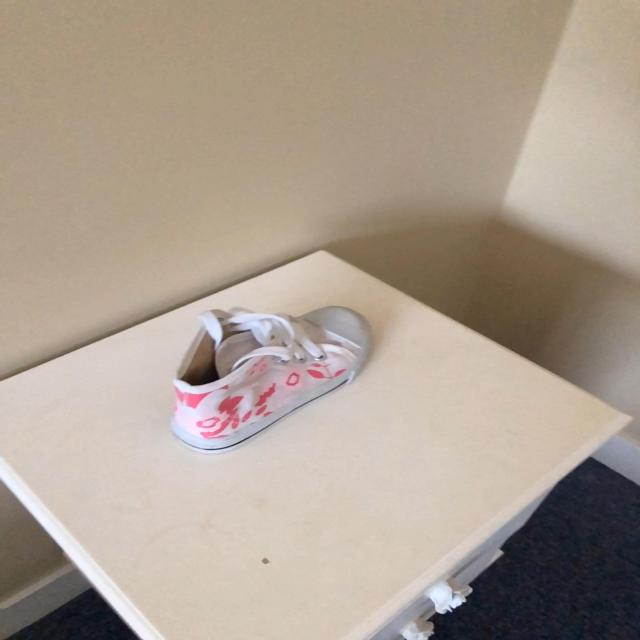shoe: (171, 308, 371, 454)
